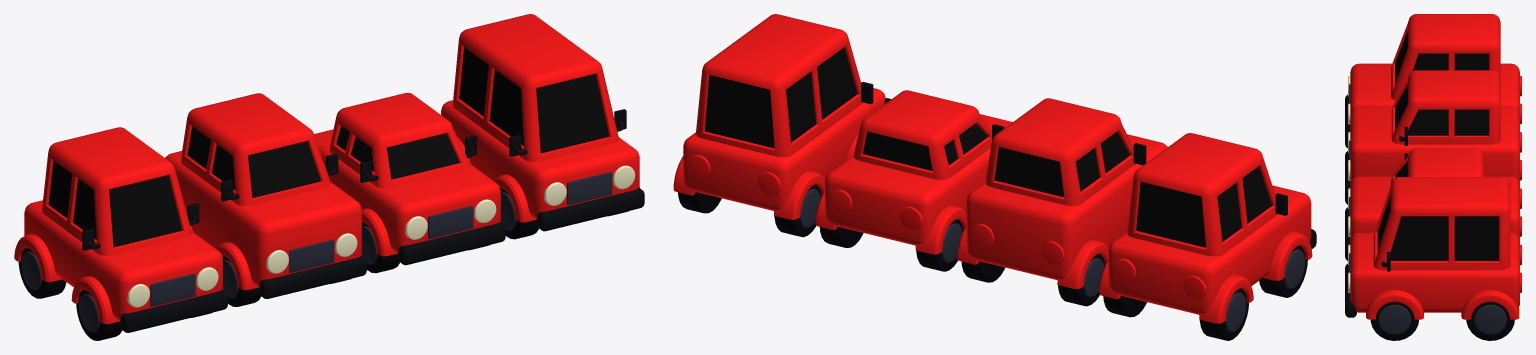
Rendered from cars.FBX.
3 views of the same model, side by side, from view 1: azimuth 30°, elevation 25°; view 2: azimuth 150°, elevation 25°; view 3: azimuth 270°, elevation 25° (orthographic). The views are drawn at different scales.
Visible parts, largest first — view 1: ChamferBox001, ChamferBox004, ChamferBox002, ChamferBox003; view 2: ChamferBox001, ChamferBox004, ChamferBox002, ChamferBox003; view 3: ChamferBox004, ChamferBox002, ChamferBox001, ChamferBox003.
Boxes of the visible parts, <box> form: ChamferBox001: <box>14,127,227,340</box>; ChamferBox004: <box>441,14,644,239</box>; ChamferBox002: <box>165,93,366,306</box>; ChamferBox003: <box>314,92,505,273</box>; ChamferBox001: <box>1099,133,1316,340</box>; ChamferBox004: <box>673,14,885,237</box>; ChamferBox002: <box>957,98,1167,306</box>; ChamferBox003: <box>815,90,1012,271</box>; ChamferBox004: <box>1345,177,1521,340</box>; ChamferBox002: <box>1345,70,1521,204</box>; ChamferBox001: <box>1345,14,1521,148</box>; ChamferBox003: <box>1345,148,1521,260</box>.
Size of the model in its own units: 203 by 55.58 by 69.56.
